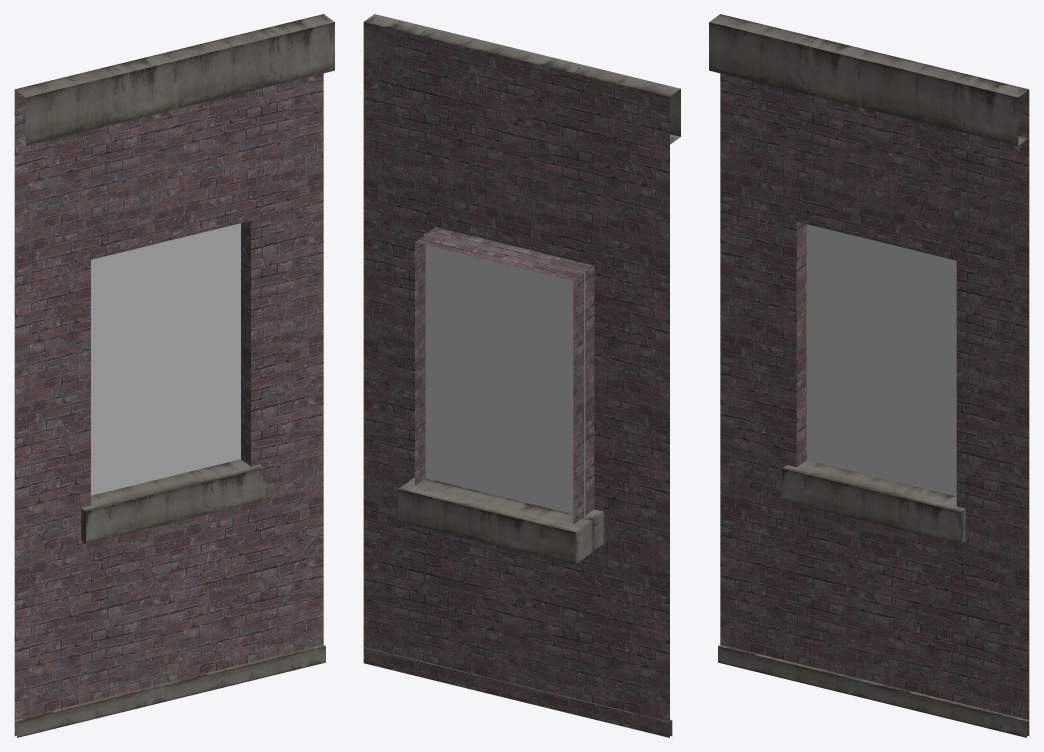
The model's file is Wall_D_Brick_Window_F_2x.FBX.
The picture shows the model from 3 angles, left to right: view 1: azimuth 30°, elevation 25°; view 2: azimuth 150°, elevation 25°; view 3: azimuth 330°, elevation 25°; orthographic projection.
Visible parts, largest first — view 1: Wall_D_Brick_Window_F_2x; view 2: Wall_D_Brick_Window_F_2x; view 3: Wall_D_Brick_Window_F_2x.
Boxes of the visible parts, x1,y1,x2,y2 form: Wall_D_Brick_Window_F_2x: (14, 14, 334, 737); Wall_D_Brick_Window_F_2x: (363, 14, 680, 737); Wall_D_Brick_Window_F_2x: (709, 14, 1029, 737).
Bounding box in the file's own units: 200 × 400 × 44.71.
